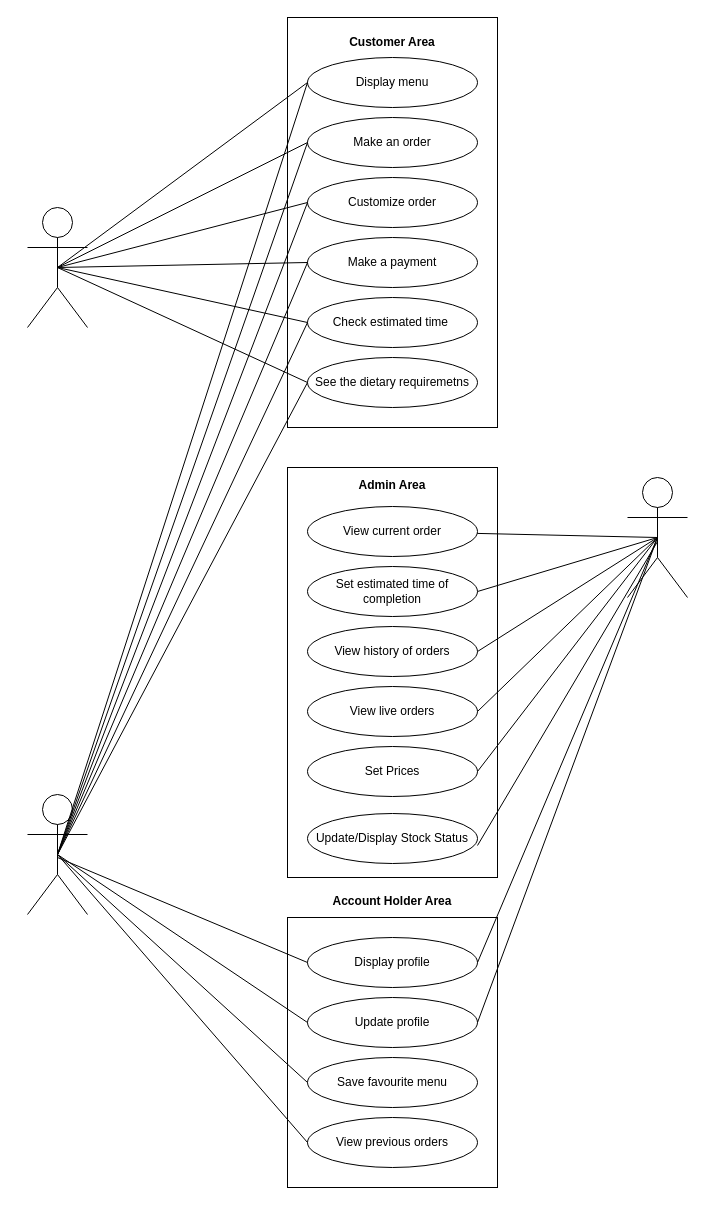
Some shapes in this 705 by 1228 pixel diagram are drawn without their labels. Here are the shapes that lost their labels. From the top down, the centre of each, then its label:
At (x=57, y=267): "Guest".
At (x=657, y=537): "Restaurant".
At (x=57, y=854): "Account holder".
